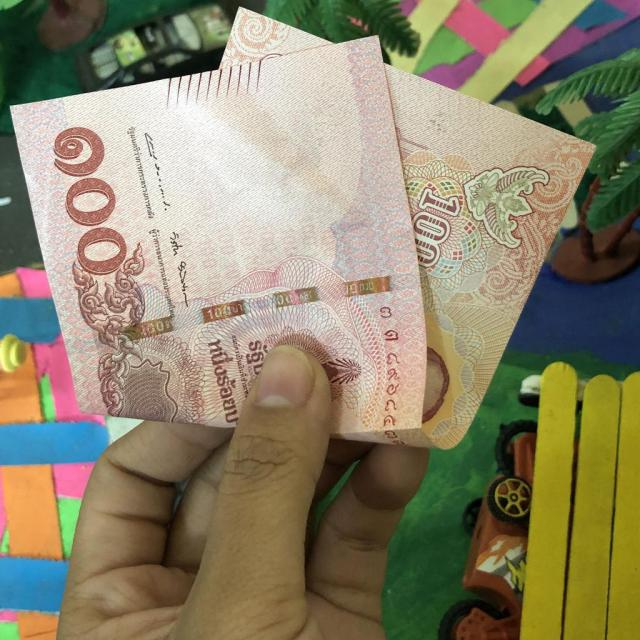THAI100: (12, 9, 591, 449)
